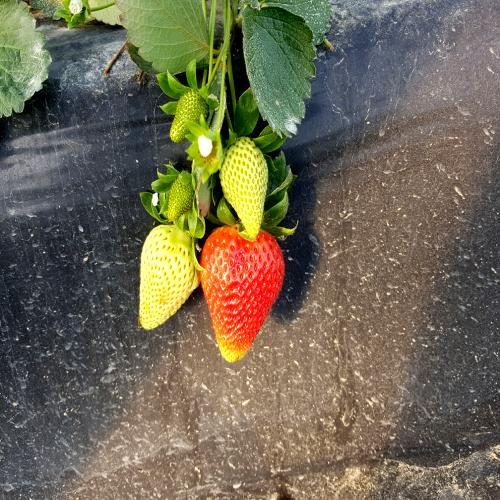ripe: (198, 223, 285, 376)
unripe: (128, 213, 200, 333), (215, 132, 272, 236)
